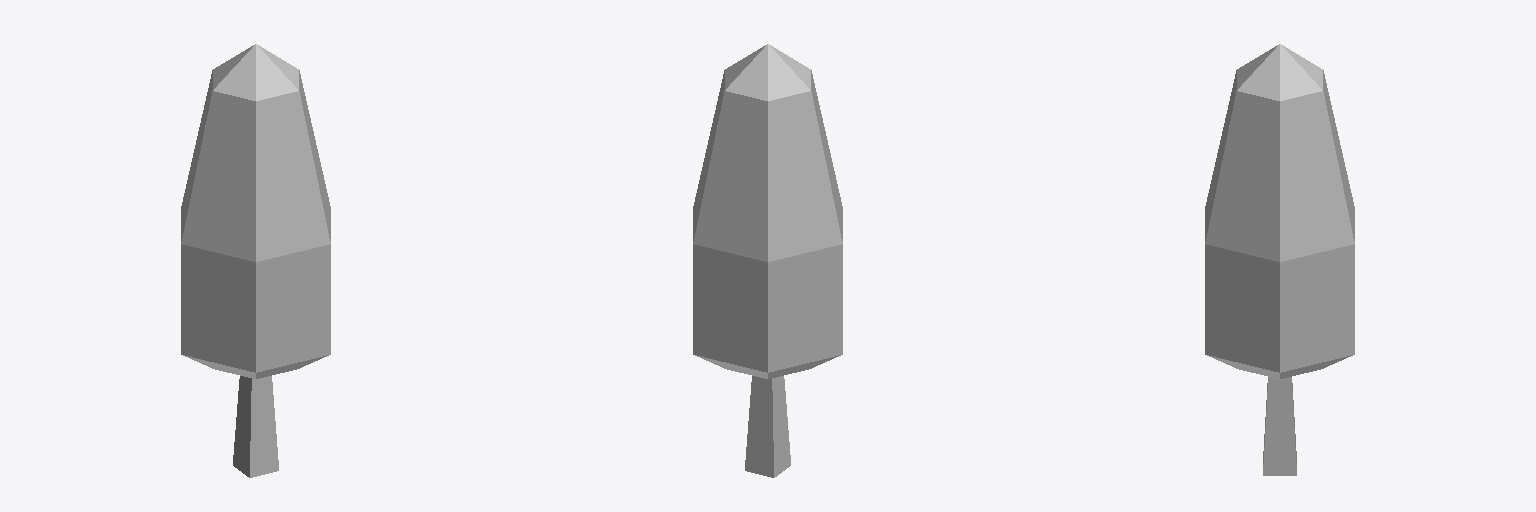
The model's file is modularBuildings_019.obj.
3 renders of one model, left to right at view 1: azimuth 30°, elevation 25°; view 2: azimuth 150°, elevation 25°; view 3: azimuth 270°, elevation 25°, orthographic.
Parts seen in each view (by area): view 1: Mesh1_Group1_Model; view 2: Mesh1_Group1_Model; view 3: Mesh1_Group1_Model.
Boxes of the visible parts, x1=… form: Mesh1_Group1_Model: x1=181, y1=44, x2=330, y2=477; Mesh1_Group1_Model: x1=693, y1=44, x2=842, y2=477; Mesh1_Group1_Model: x1=1205, y1=44, x2=1354, y2=475.
Size of the model in its own units: 0.3268 by 0.8858 by 0.283.